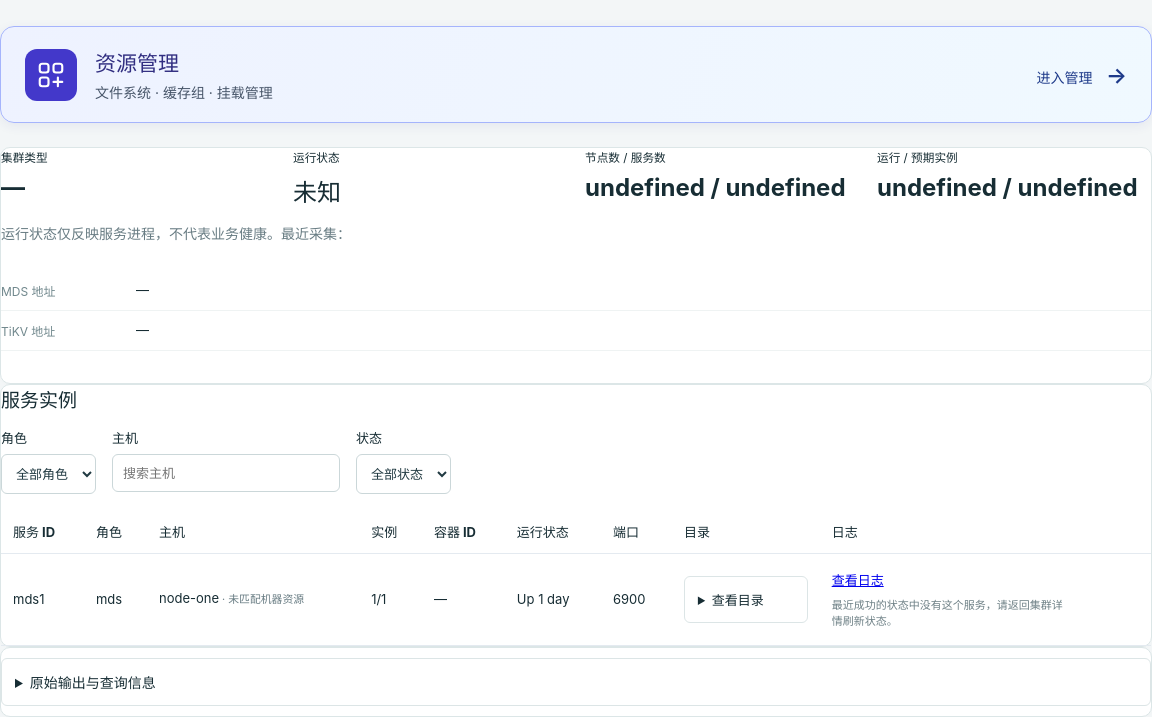
Test: clipboard rejection is visible beside the path instead of silently claiming success
This screenshot has width=1152, height=717.
(page scrolled)
What coordinates should you click on to do the following:
click the heading "查看目录"
I would click on:
 (738, 600)
Its box is [712, 592, 764, 608].
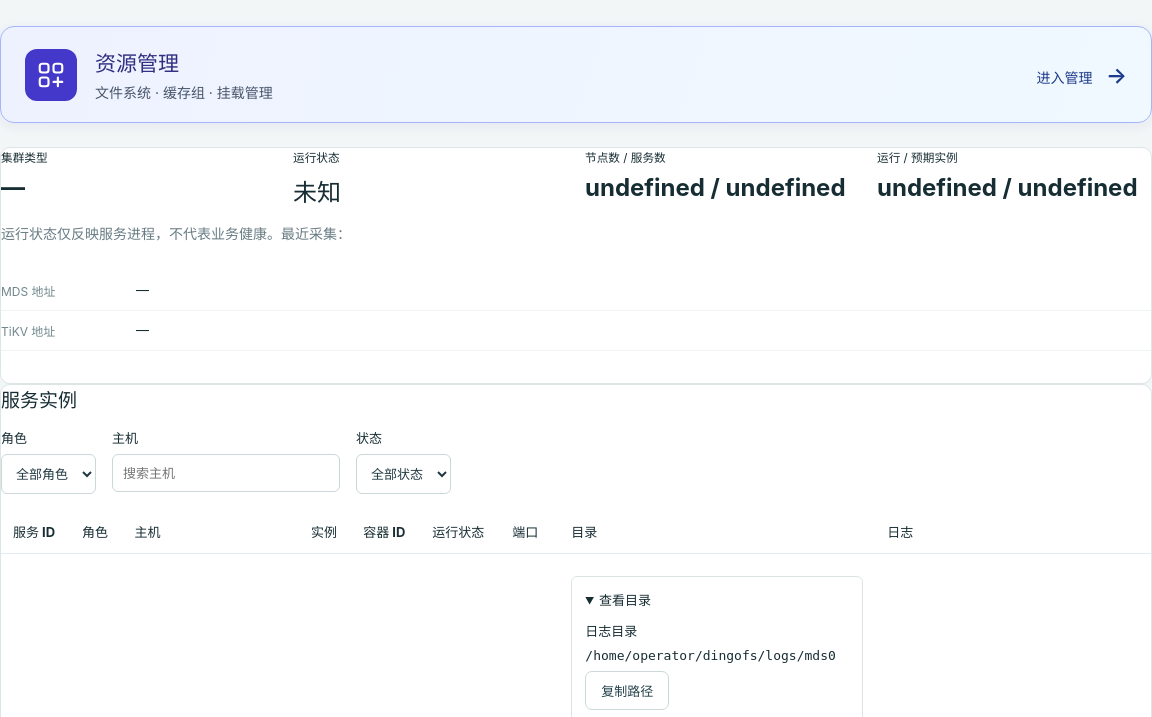
What coordinates should you click on to do the following:
click the button "复制路径"
I would click on:
 (627, 690)
Its box is [585, 671, 669, 710].
(page scrolled)
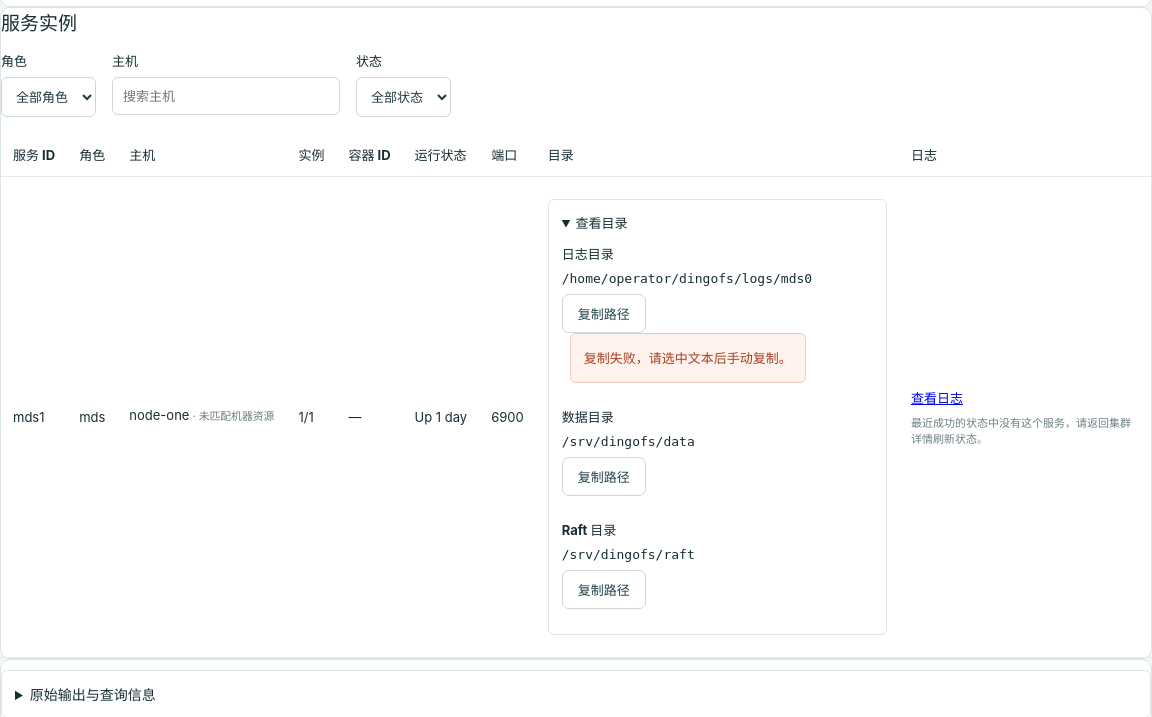
expect the message does not show "已复制": met, box [570, 333, 806, 383]
expect the message shows "复制失败": met, box [584, 350, 792, 366]
